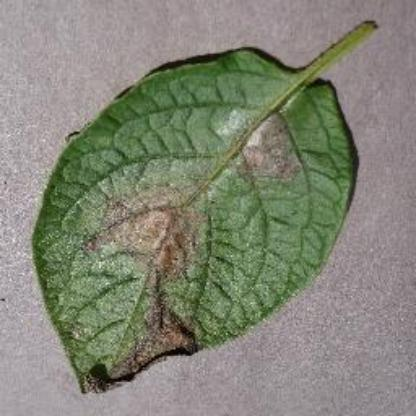Late-Blight: (30, 47, 368, 389)
